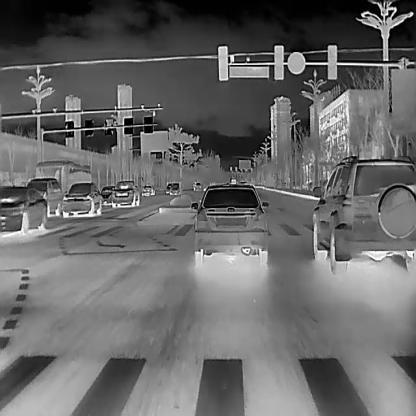car: (312, 155, 416, 276), (190, 184, 269, 267), (0, 186, 47, 238), (33, 159, 90, 194), (25, 177, 63, 215), (61, 182, 102, 216), (111, 181, 139, 208), (100, 184, 115, 205), (165, 182, 179, 195), (140, 184, 155, 196)
